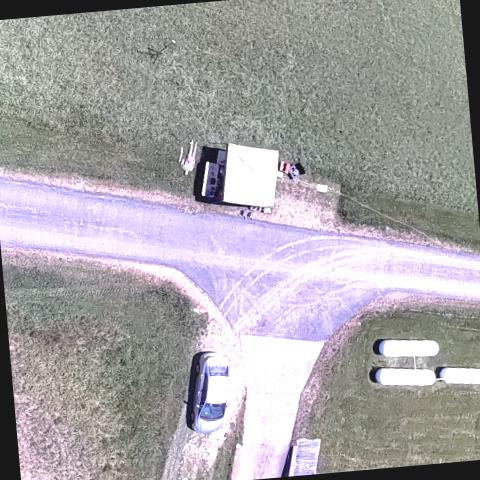person: (178, 136, 201, 176)
